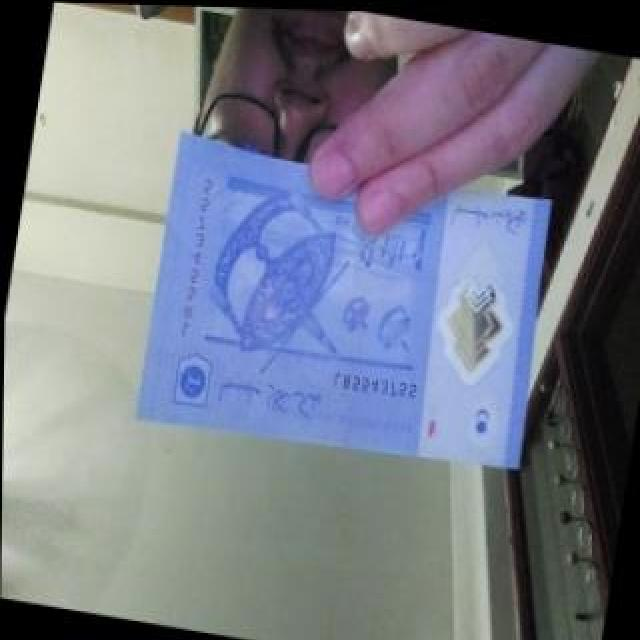1 Ringgit: (128, 122, 562, 484)
